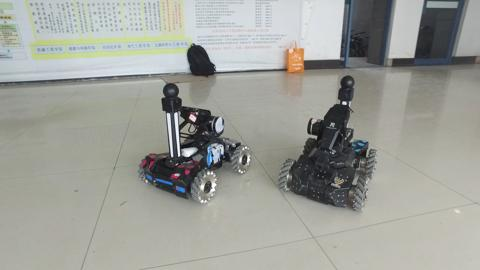chariot: (131, 75, 255, 215), (278, 71, 383, 219)
